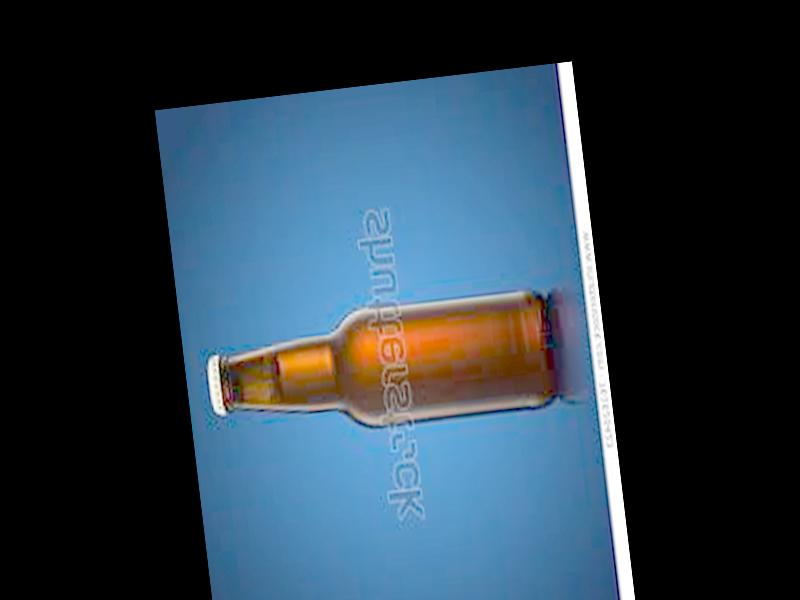Beer: (200, 286, 559, 448)
